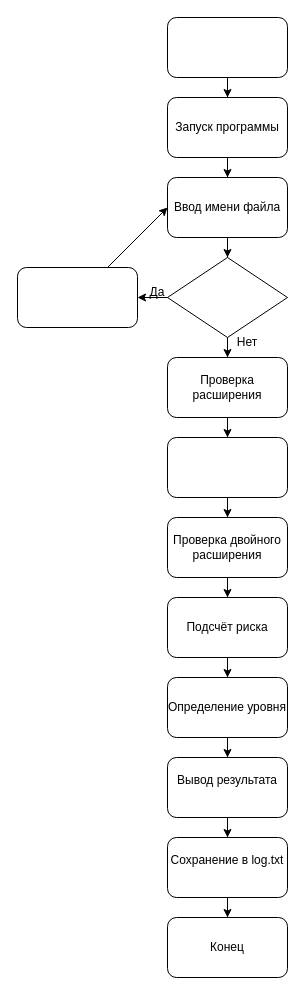
Image size: 305x995. Some labels were removed from this diagram. Here are the shapes that lost their labels. From the top down, the centre of each, then its label:
At point 227,47: "Старт".
At point 77,297: "Ошибка".
At point 227,297: "Имя файла пустое?".
At point 227,467: "Поиск подозрительных слов".
